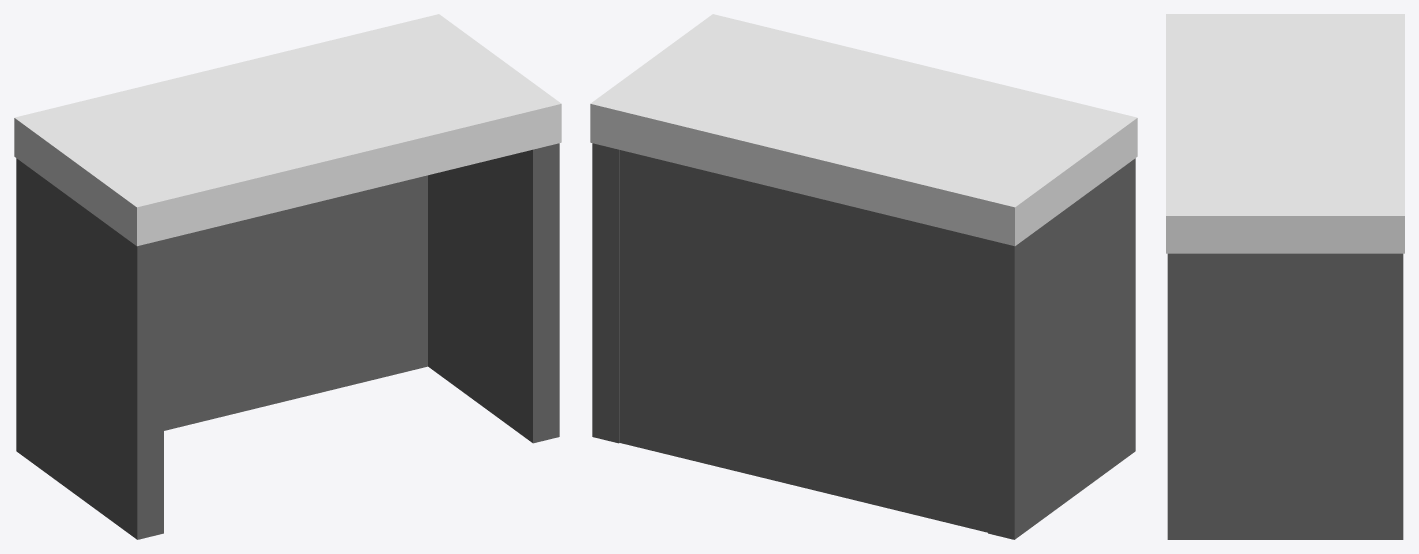
The model's file is desk3_modern.glb.
3 renders of one model, left to right at view 1: azimuth 30°, elevation 25°; view 2: azimuth 150°, elevation 25°; view 3: azimuth 270°, elevation 25°, orthographic. The views are drawn at different scales.
Visible parts, largest first — view 1: Box002; view 2: Box002; view 3: Box002.
Boxes of the visible parts, x1,y1,x2,y2 form: Box002: (14, 14, 561, 539); Box002: (590, 14, 1137, 539); Box002: (1166, 14, 1404, 539).
Bounding box in the file's own units: 0.16 × 0.12 × 0.08.
1 material, 1 textured.
